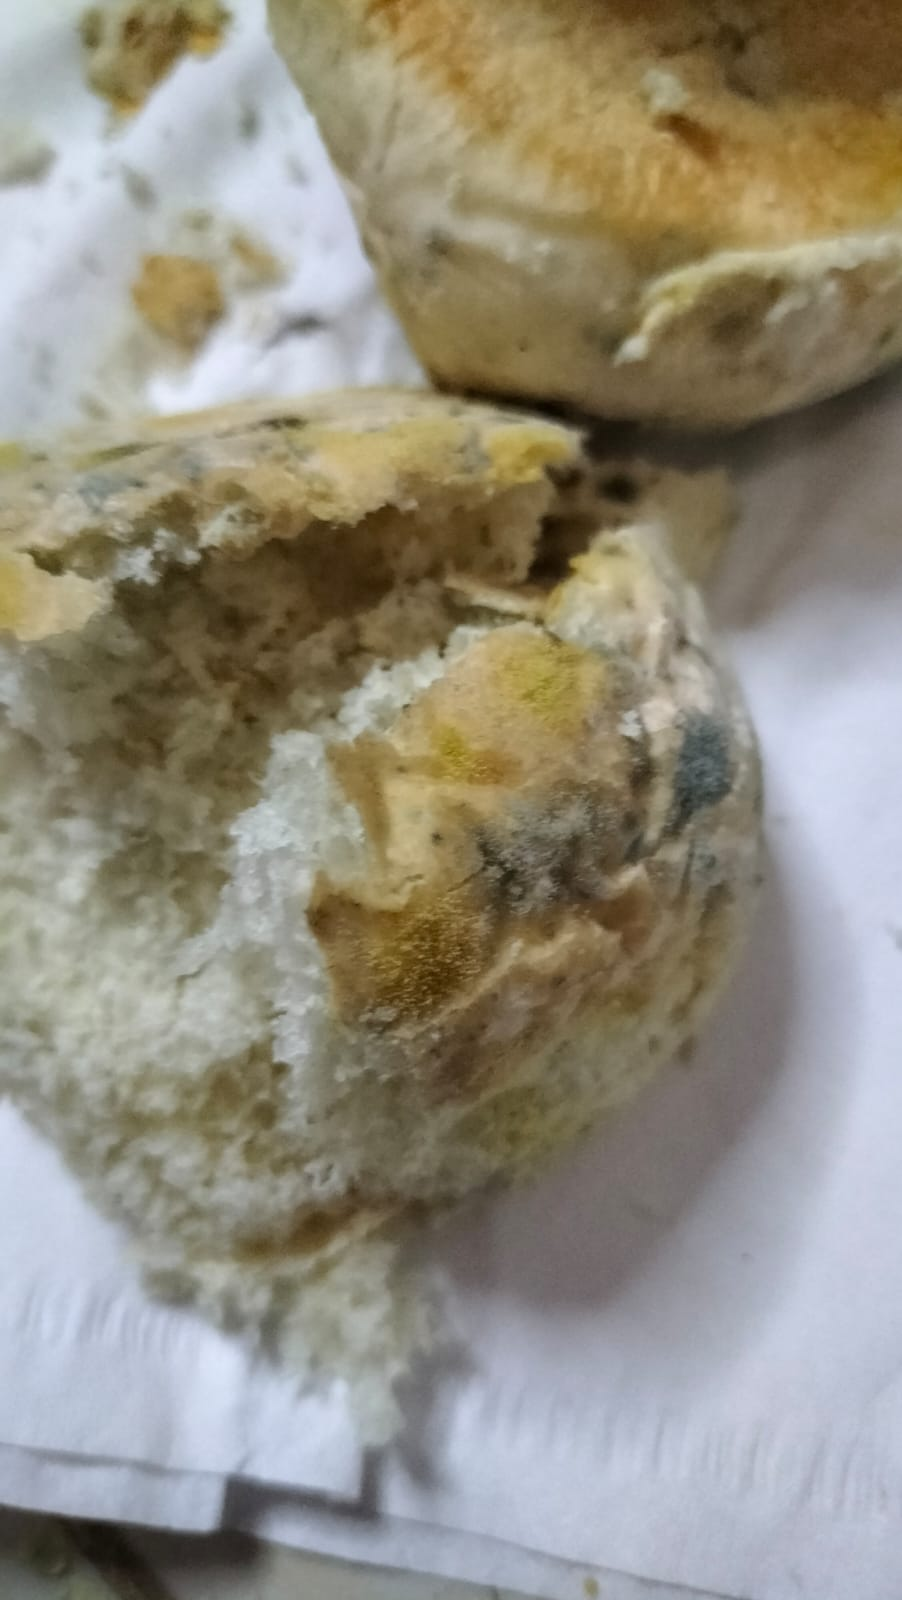mold_bread: (469, 784, 647, 915), (356, 907, 482, 1027), (57, 442, 215, 521), (671, 703, 760, 822), (576, 645, 657, 736)
